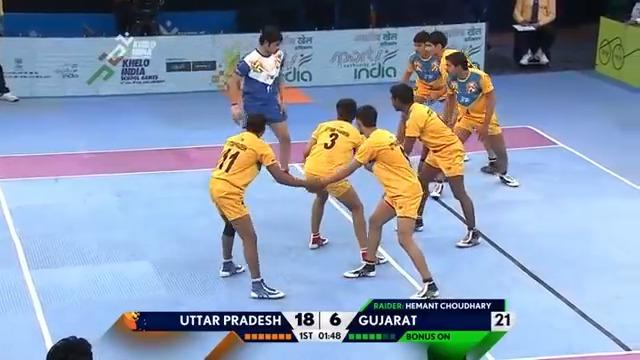Player: (318, 104, 440, 299), (208, 111, 325, 299), (388, 82, 481, 248), (302, 97, 387, 266), (431, 50, 519, 188), (400, 30, 447, 111)
Raider: (229, 25, 293, 174)
referee: (511, 0, 557, 67), (0, 0, 19, 102), (116, 0, 163, 36), (45, 335, 93, 359), (0, 63, 19, 102)
